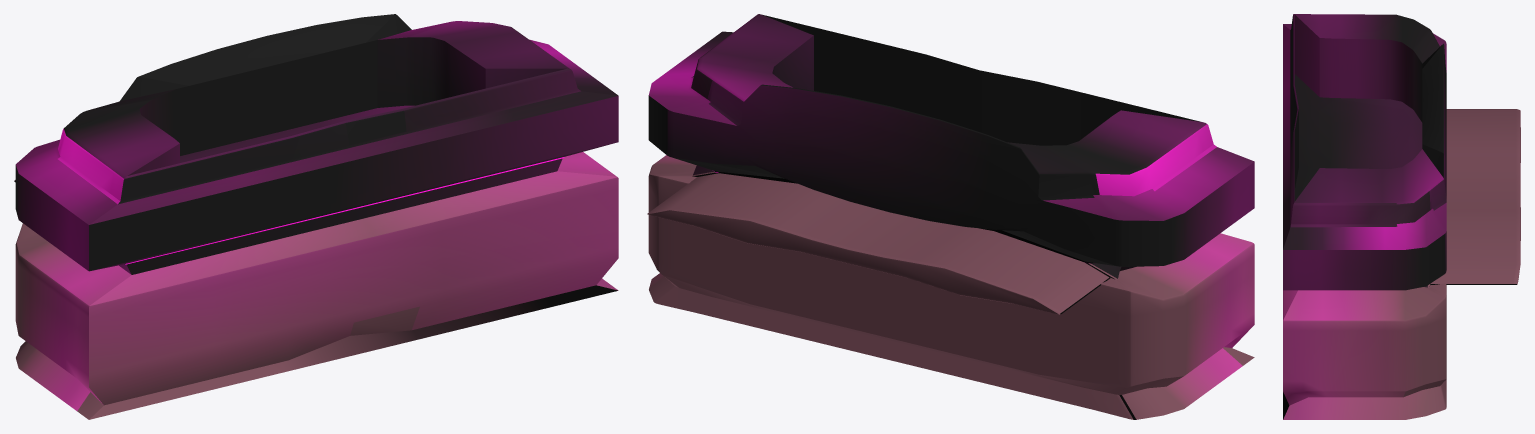
The picture shows the model from 3 angles, left to right: view 1: azimuth 30°, elevation 25°; view 2: azimuth 150°, elevation 25°; view 3: azimuth 270°, elevation 25°; orthographic projection. The views are drawn at different scales.
Visible parts, largest first — view 1: DJ_Baked; view 2: DJ_Baked; view 3: DJ_Baked.
Part boxes in pixels (x1,y1,x2,y2): DJ_Baked: (14, 14, 618, 419); DJ_Baked: (647, 14, 1254, 419); DJ_Baked: (1283, 14, 1520, 419).
Bounding box in the file's own units: 2795 × 1267 × 1245.
1 material, 1 textured.
